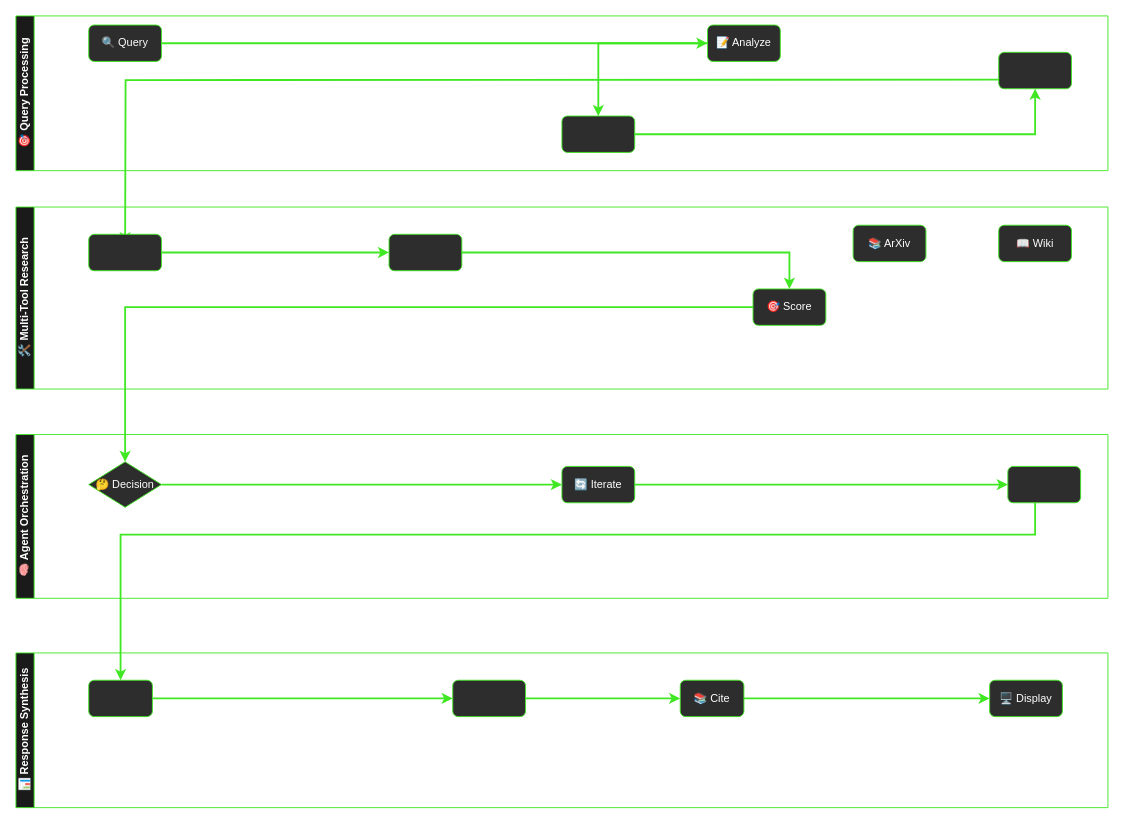
Some shapes in this 1124 by 824 pixel diagram are drawn without their labels. Each missing label, with the centre of its shape:
🌐 Tavily: (125,252)
📄 Extract: (425,252)
📝 Generate: (489,698)
🗓️ Plan: (598,133)
🤖 Agent: (1035,70)
🤖 LLM: (120,698)
🧠 Memory: (1044,484)
